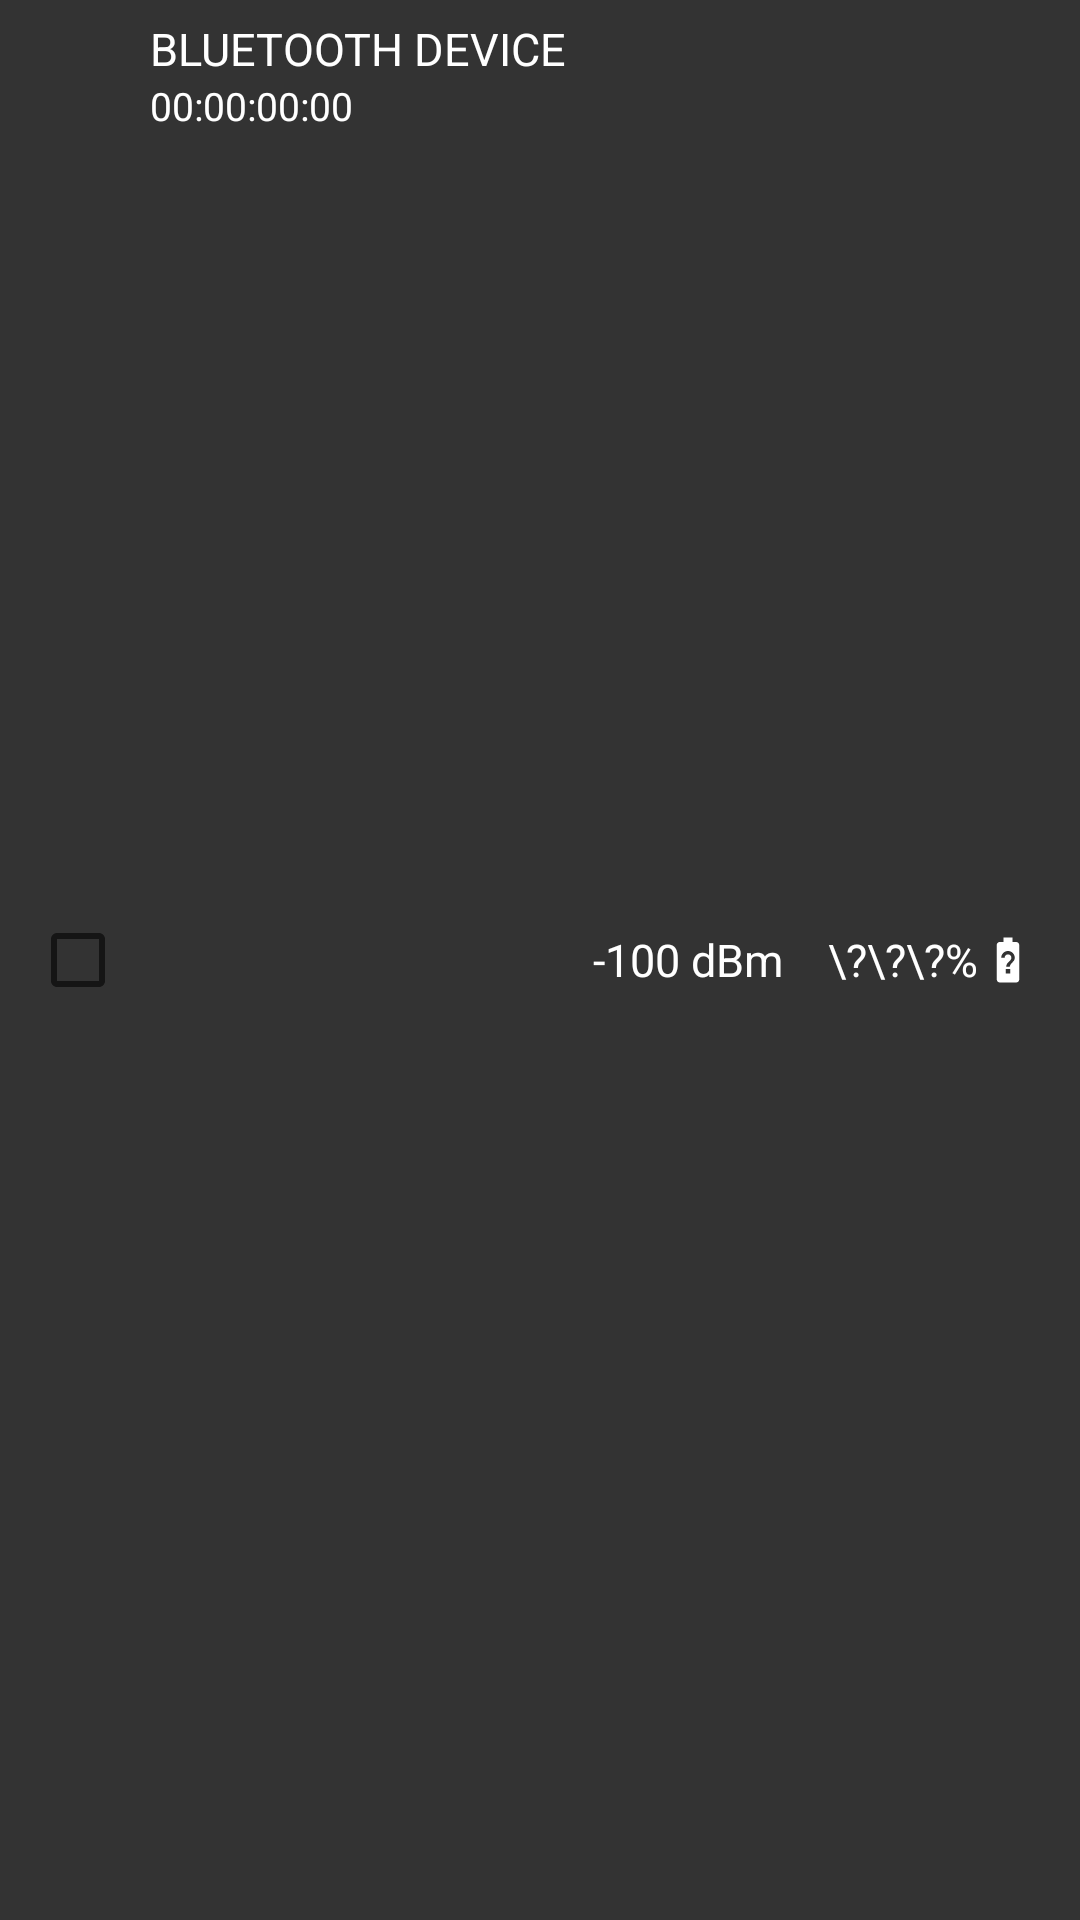

Screen size 1080*1920. Icon name, then its center in pixels as point (x, y):
battery unknown: point (1008, 960)
